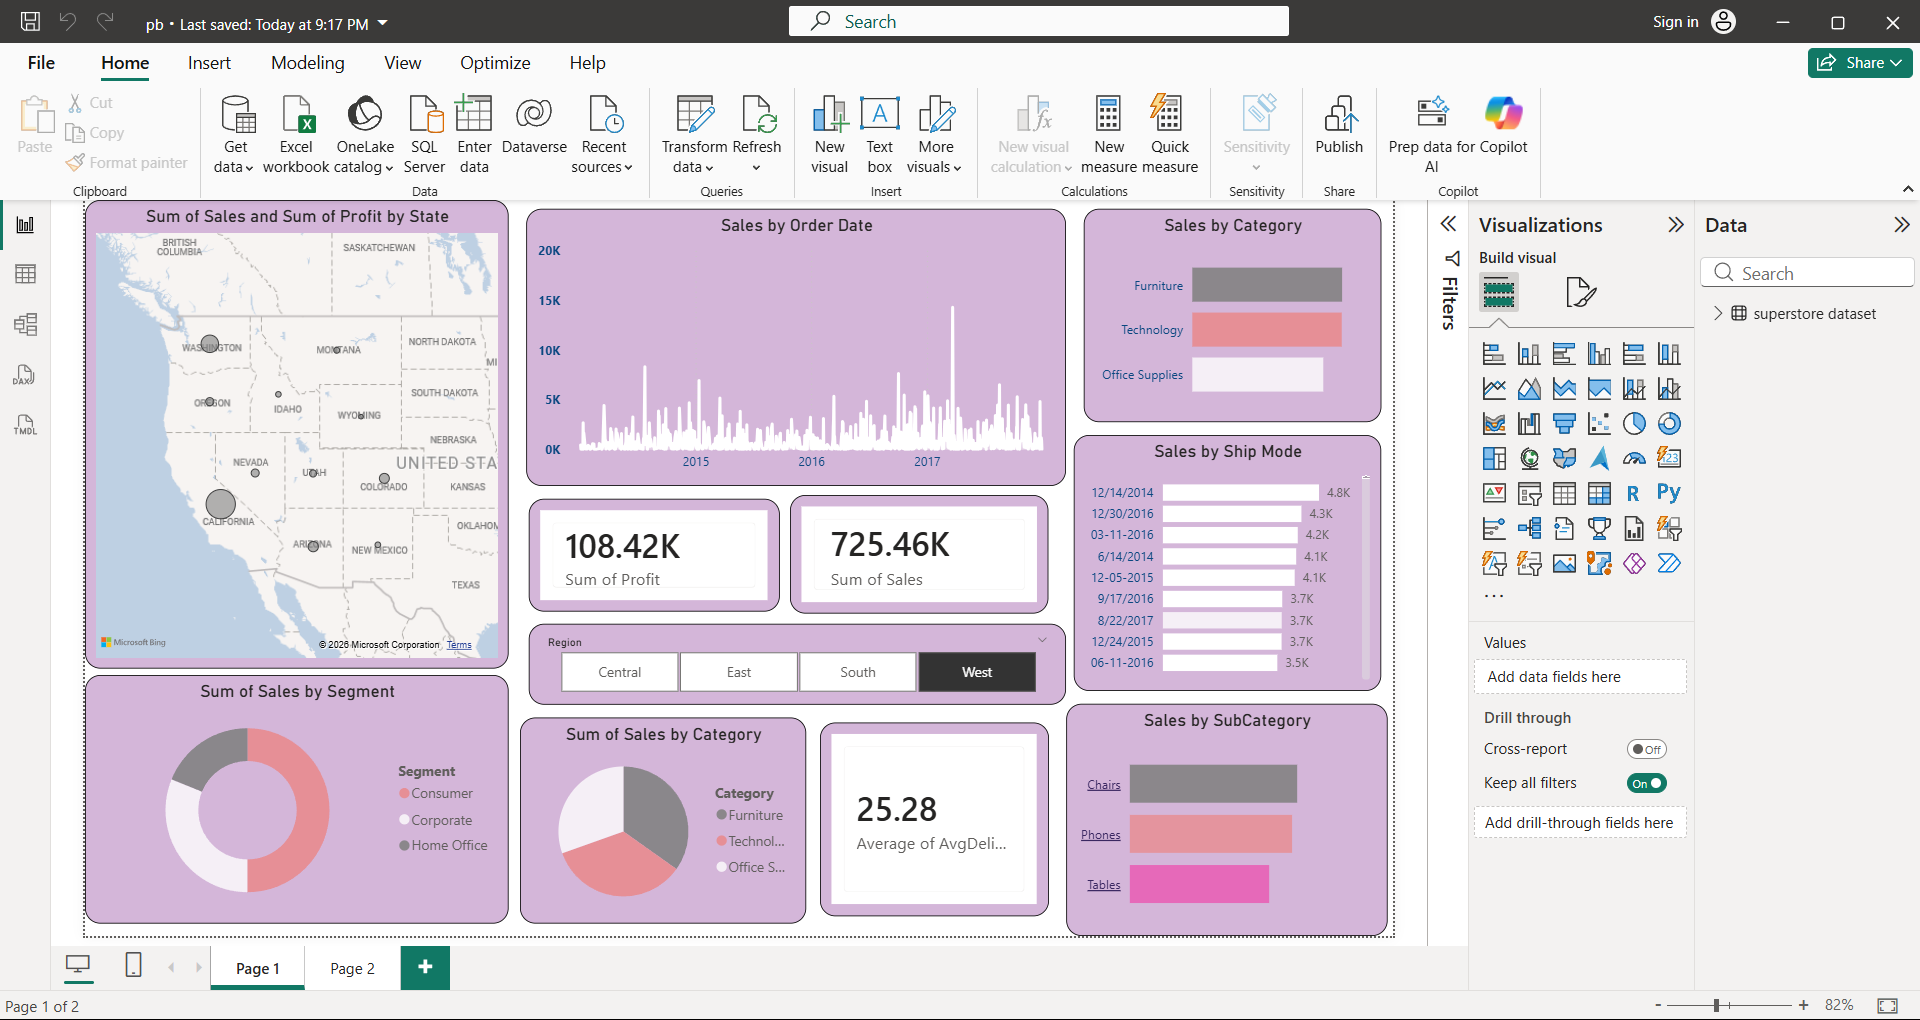

This screenshot's page, from the dashboard's own definition file:
{"tool":"powerbi","page":{"name":"Page 1","canvas":[1280,720],"ordinal":0},"visuals":[{"type":"clusteredBarChart","title":"Sales by Category","fields":{"Category":["superstore dataset.Category"],"Y":["Sum(superstore dataset.Sales)"]},"box":[977,8.6,291,209.1],"z":0},{"type":"clusteredBarChart","title":"Sales by SubCategory","fields":{"Category":["superstore dataset.Sub-Category"],"Y":["Sum(superstore dataset.Sales)"]},"box":[959.9,492.8,314.3,227.4],"z":1000},{"type":"clusteredBarChart","title":"Sales by Ship Mode","fields":{"Category":["superstore dataset.Ship Date"],"Y":["Sum(superstore dataset.Sales)"]},"box":[967.3,229.9,300.8,250.7],"z":2000},{"type":"areaChart","title":"Sales by Order Date","fields":{"Category":["superstore dataset.Order Date"],"Y":["Sum(superstore dataset.Sales)"]},"box":[431.7,8.6,528.3,271.5],"z":3000},{"type":"map","fields":{"Category":["superstore dataset.State"],"Size":["Sum(superstore dataset.Sales)"]},"box":[0,0,414.5,458.6],"z":4000},{"type":"donutChart","fields":{"Category":["superstore dataset.Segment"],"Y":["Sum(superstore dataset.Sales)"]},"box":[0,464.7,414.5,243.3],"z":5000},{"type":"slicer","fields":{"Values":["superstore dataset.Region"]},"box":[434.1,414.5,525.8,79.5],"z":6000},{"type":"cardVisual","fields":{"Data":["Sum(superstore dataset.Sales)"]},"box":[689.7,288.6,253.1,116.2],"z":7000},{"type":"cardVisual","fields":{"Data":["Sum(superstore dataset.Profit)"]},"box":[434.1,292.3,245.8,110.1],"z":8000},{"type":"cardVisual","fields":{"Data":["Avg(superstore dataset.AvgDelivery)"]},"box":[719,511.1,223.8,189.5],"z":10000},{"type":"pieChart","fields":{"Category":["superstore dataset.Category"],"Y":["Sum(superstore dataset.Sales)"]},"box":[425.5,506.3,280,201.8],"z":11000}]}

Visuals, with their boxes on the page's 1280x720 design canvas (x1, y1, x2, y2). These are canvas units, not pixel positions in the 1920x1020 screenshot, which may show the page scaled, cropped or inside an application window:
"Sales by Category" clusteredBarChart: bbox=(977, 9, 1268, 218)
"Sales by SubCategory" clusteredBarChart: bbox=(960, 493, 1274, 720)
"Sales by Ship Mode" clusteredBarChart: bbox=(967, 230, 1268, 481)
"Sales by Order Date" areaChart: bbox=(432, 9, 960, 280)
map - superstore dataset.State x Sum(superstore dataset.Sales): bbox=(0, 0, 414, 459)
donutChart - superstore dataset.Segment x Sum(superstore dataset.Sales): bbox=(0, 465, 414, 708)
slicer - superstore dataset.Region: bbox=(434, 414, 960, 494)
cardVisual - Sum(superstore dataset.Sales): bbox=(690, 289, 943, 405)
cardVisual - Sum(superstore dataset.Profit): bbox=(434, 292, 680, 402)
cardVisual - Avg(superstore dataset.AvgDelivery): bbox=(719, 511, 943, 701)
pieChart - superstore dataset.Category x Sum(superstore dataset.Sales): bbox=(426, 506, 706, 708)
